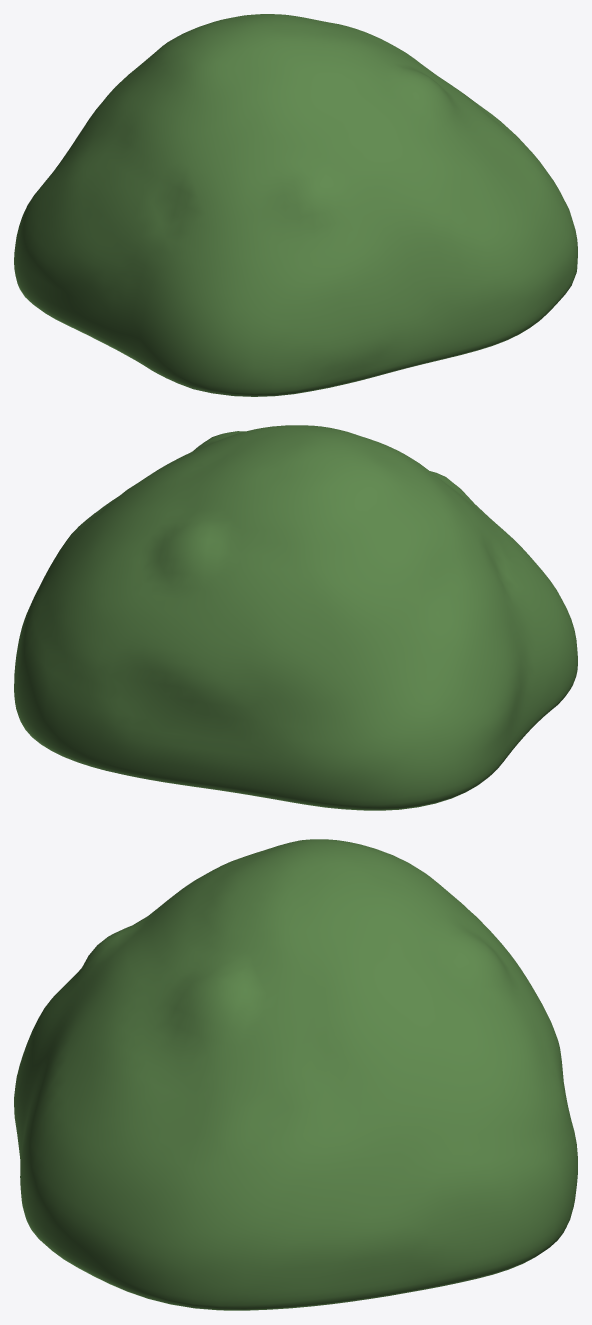
Rendered from SlimeScaled_model.fbx.
The picture shows the model from 3 angles, top to bottom: view 1: azimuth 30°, elevation 25°; view 2: azimuth 150°, elevation 25°; view 3: azimuth 270°, elevation 25°; orthographic projection. The views are drawn at different scales.
Visible parts, largest first — view 1: SlimeLowScaled; view 2: SlimeLowScaled; view 3: SlimeLowScaled.
Boxes of the visible parts, x1,y1,x2,y2 form: SlimeLowScaled: [14, 14, 577, 396]; SlimeLowScaled: [14, 425, 577, 810]; SlimeLowScaled: [14, 839, 577, 1310].
Size of the model in its own units: 160 by 84.72 by 143.
